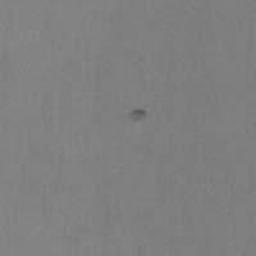Oil spot: (125, 106, 148, 124)
